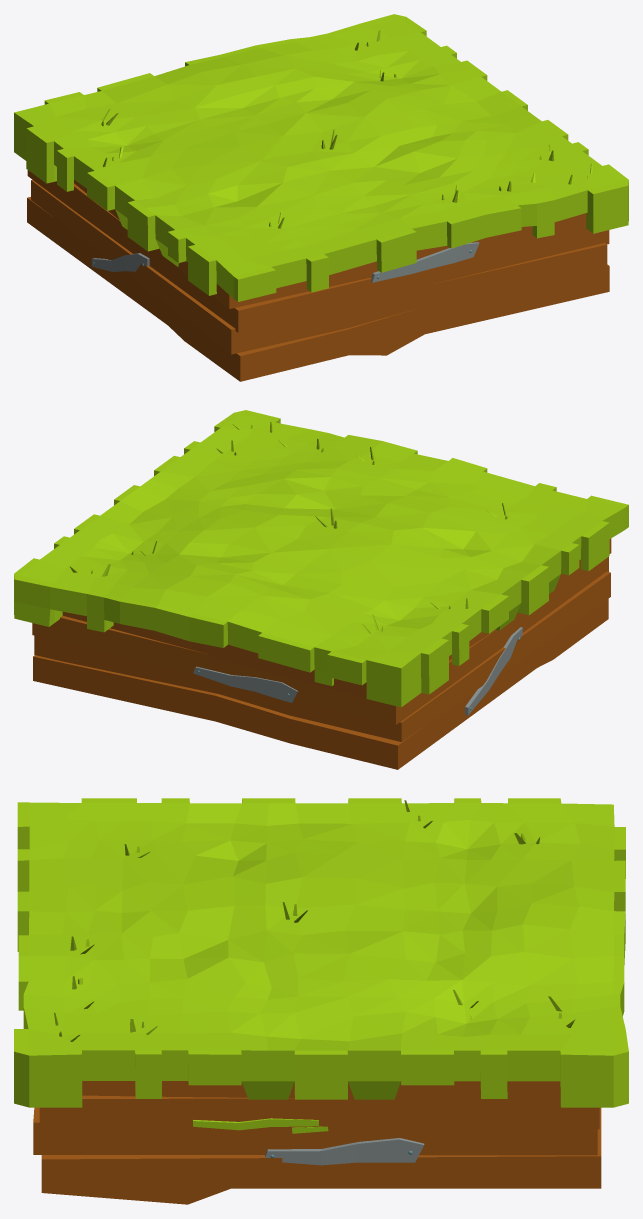
Rendered from grass_tile.gltf.
3 views of the same model, one above another, from view 1: azimuth 30°, elevation 25°; view 2: azimuth 150°, elevation 25°; view 3: azimuth 270°, elevation 25° (orthographic). The views are drawn at different scales.
Parts seen in each view (by area): view 1: grass_tile; view 2: grass_tile; view 3: grass_tile.
Part boxes in pixels (x1,y1,x2,y2): grass_tile: [14, 14, 628, 381]; grass_tile: [14, 410, 628, 769]; grass_tile: [14, 798, 628, 1204].
Size of the model in its own units: 5.11 by 1.86 by 5.18.
